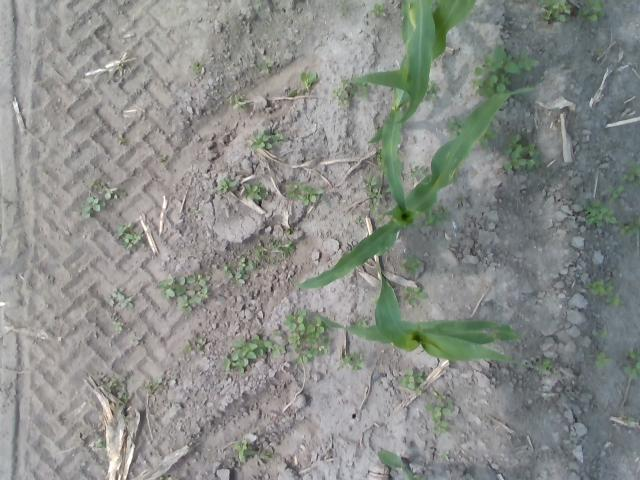Maize: (296, 88, 536, 291), (351, 0, 475, 210), (313, 262, 522, 368), (398, 0, 438, 123), (375, 449, 424, 480)
Weeds: (472, 45, 540, 97), (283, 309, 330, 365), (156, 270, 210, 312), (223, 334, 272, 373), (502, 133, 542, 172), (424, 390, 456, 434), (332, 77, 370, 107), (221, 256, 256, 287), (581, 198, 618, 226), (284, 182, 324, 206), (536, 0, 572, 23), (362, 176, 383, 214), (398, 368, 425, 396), (116, 222, 142, 250), (287, 72, 317, 96), (250, 129, 284, 150), (79, 196, 107, 221), (421, 204, 449, 228), (106, 287, 134, 310), (578, 0, 606, 22), (476, 122, 499, 148), (622, 347, 640, 380), (619, 160, 640, 188), (90, 180, 118, 200), (586, 278, 614, 297), (109, 377, 130, 402), (342, 350, 366, 371), (402, 252, 421, 277), (234, 439, 253, 464), (267, 240, 296, 256), (404, 286, 427, 306), (244, 181, 268, 200), (445, 116, 466, 136), (422, 79, 440, 102), (620, 216, 640, 236), (213, 176, 236, 193), (407, 162, 428, 180), (592, 352, 612, 370), (604, 291, 624, 308), (182, 338, 204, 353), (228, 92, 246, 110), (606, 185, 625, 202), (369, 2, 387, 17), (374, 146, 384, 172), (534, 359, 554, 372), (271, 342, 285, 358), (256, 60, 273, 73), (253, 245, 266, 259), (354, 316, 369, 328), (191, 59, 203, 74), (454, 192, 468, 204), (261, 449, 274, 461), (95, 436, 106, 448), (112, 320, 122, 332), (118, 132, 128, 144), (441, 452, 451, 462), (152, 378, 162, 387), (385, 184, 393, 195), (624, 417, 635, 425), (116, 63, 125, 72), (596, 46, 604, 56), (369, 295, 379, 303), (121, 414, 130, 422), (159, 155, 168, 162), (598, 331, 607, 338), (191, 209, 199, 215), (284, 228, 290, 234), (357, 218, 362, 224), (254, 0, 260, 3)
